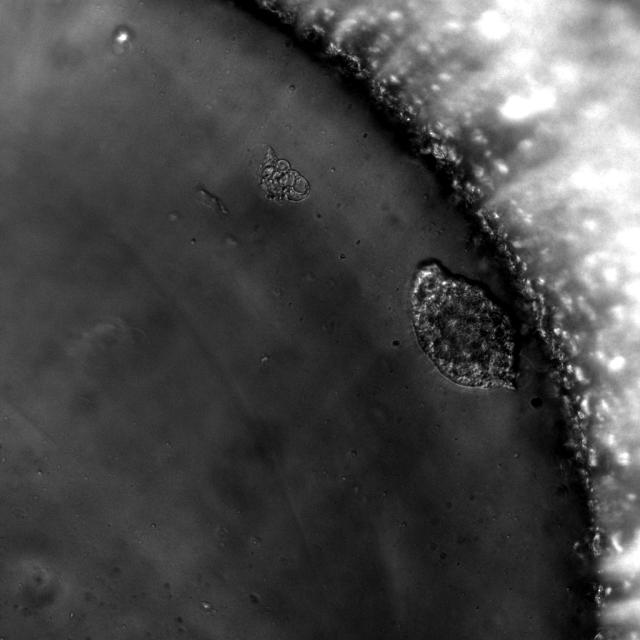organoid: (408, 261, 514, 388), (258, 147, 309, 202)
